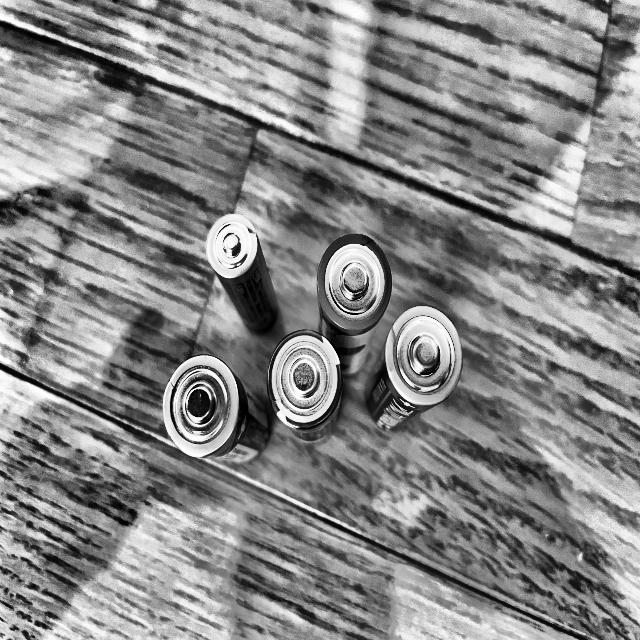drycell: (365, 167, 492, 290), (175, 191, 279, 339), (246, 263, 334, 413), (290, 191, 378, 320), (358, 300, 434, 434)
